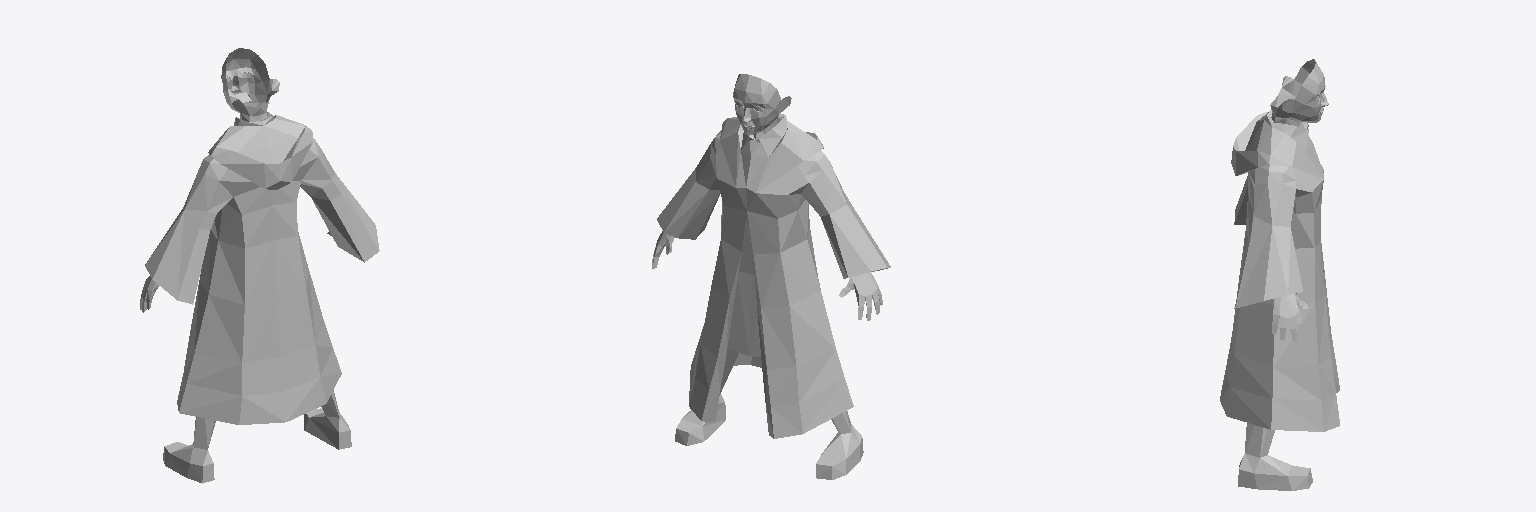
The model's file is GenFemale.obj.
The picture shows the model from 3 angles: view 1: azimuth 30°, elevation 25°; view 2: azimuth 150°, elevation 25°; view 3: azimuth 270°, elevation 25°; orthographic projection.
Parts seen in each view (by area): view 1: material_0, material_1, material_2, material_3, material_6; view 2: material_1, material_0, material_2, material_3, material_6; view 3: material_1, material_0, material_2, material_3, material_6.
Boxes of the visible parts, box(x1,y1,x2,y2) form: material_0: box(145, 115, 379, 304); material_1: box(177, 239, 341, 424); material_2: box(163, 112, 351, 483); material_3: box(221, 48, 279, 121); material_6: box(140, 231, 339, 449); material_1: box(689, 211, 853, 438); material_0: box(657, 117, 890, 289); material_2: box(675, 113, 863, 479); material_3: box(733, 74, 791, 139); material_6: box(652, 231, 882, 433); material_1: box(1220, 197, 1339, 431); material_0: box(1231, 112, 1323, 308); material_2: box(1238, 110, 1322, 490); material_3: box(1270, 59, 1328, 127); material_6: box(1245, 294, 1307, 457).
Size of the model in its own units: 78.43 by 130 by 36.59.